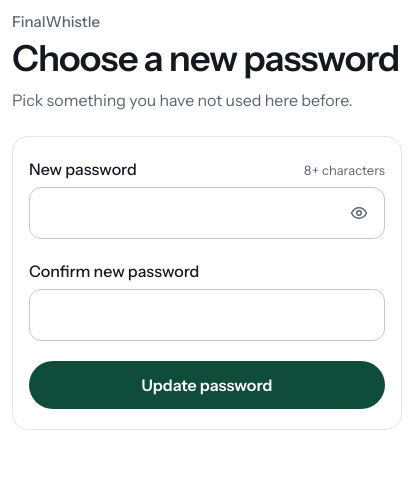
Test: rejects mismatched passwords without calling the API
Type "newpassword1" into the password field labelled "New password" at (207, 213), box [29,187,385,239]
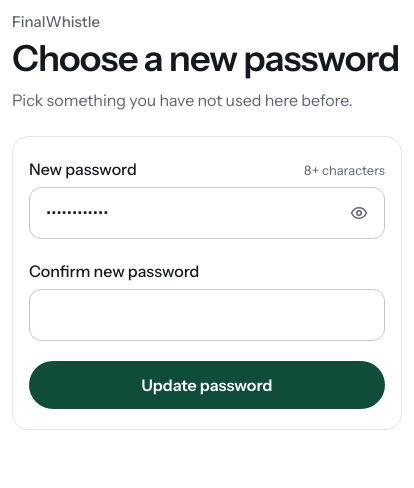
Type "different1" into the password field labelled "Confirm new password" at (207, 315), box [29,289,385,341]
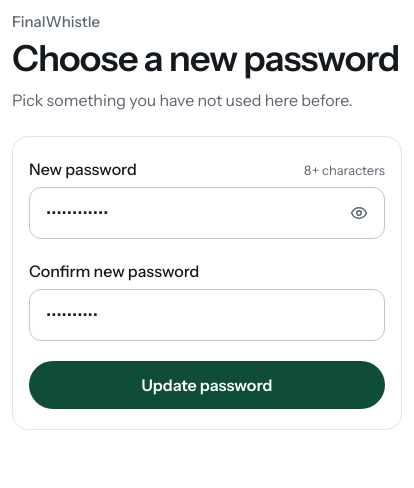
Click the button "Update password" at (207, 385), box [29,361,385,409]
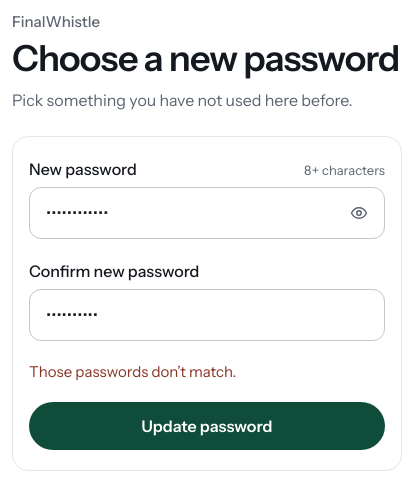
Now the text "Those passwords don’t match." is shown, box [29,362,236,381]
